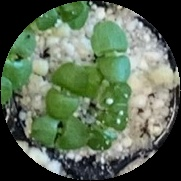Basil: (92, 23, 137, 80), (91, 85, 129, 151), (33, 114, 88, 149), (2, 30, 37, 84), (54, 62, 83, 115), (33, 3, 88, 29)
